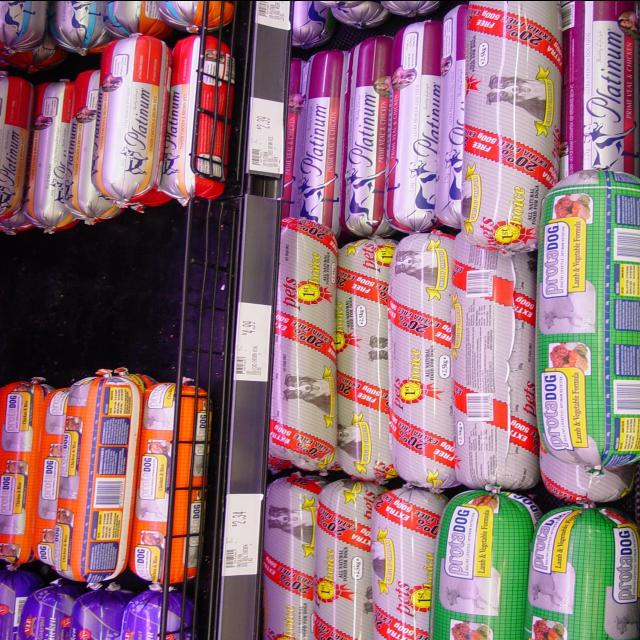empty_space: (13, 231, 211, 365)
